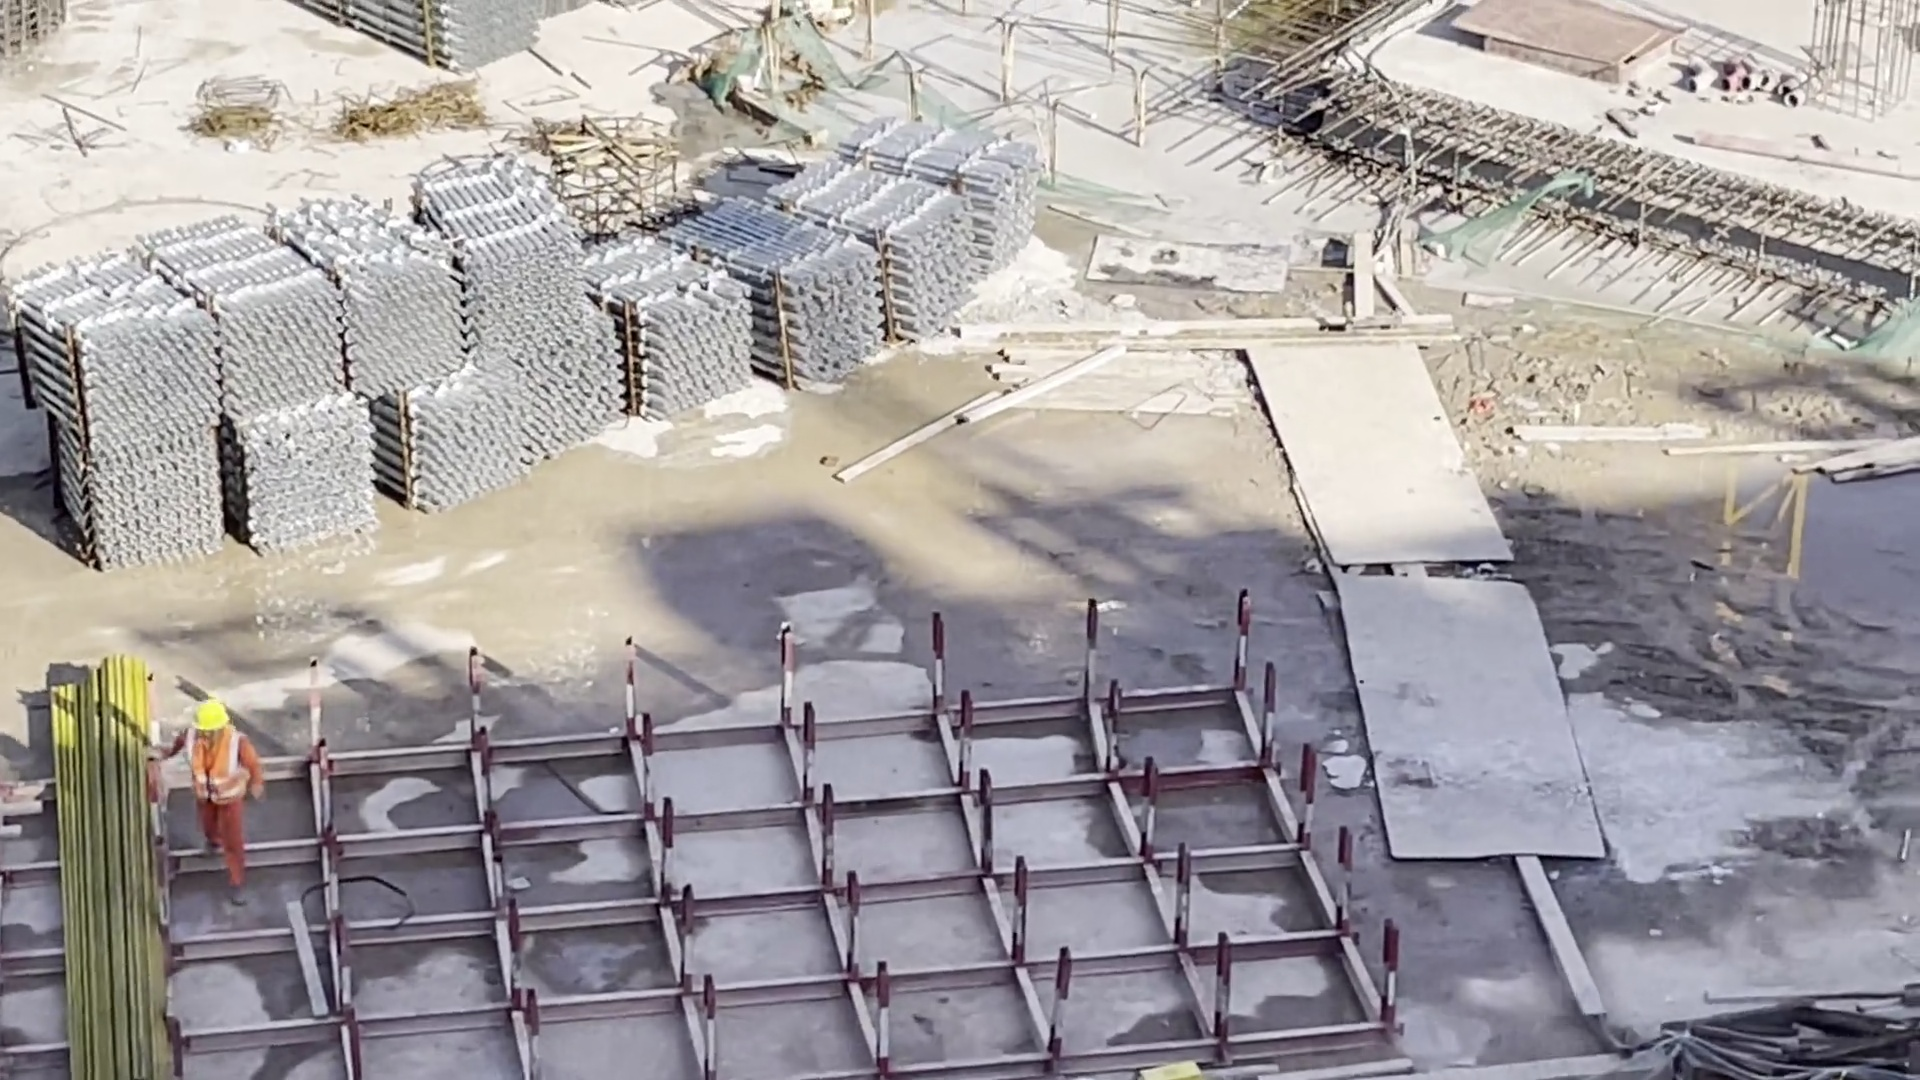board: (1435, 1, 1684, 75)
helmet: (178, 693, 247, 740)
person: (155, 690, 259, 895)
scaffold: (4, 108, 1048, 583)
vest: (168, 732, 240, 794)
